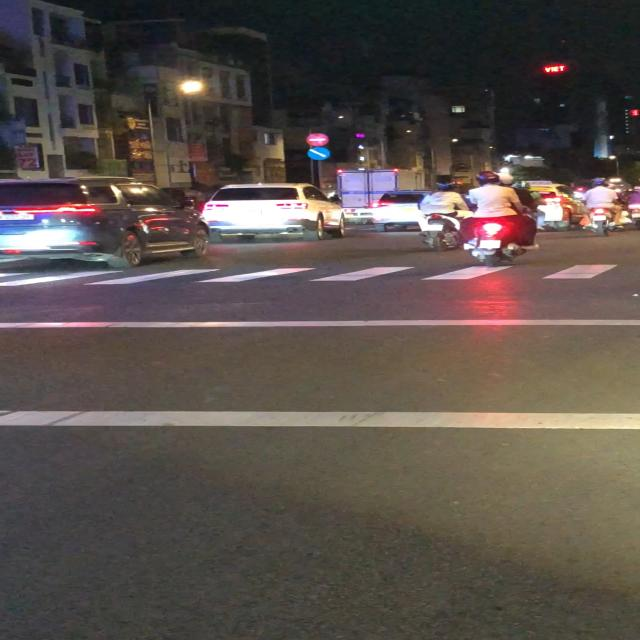Bien bao cam di nguoc chieu: (304, 132, 331, 147)
Bien bao huong phai di vong chuong ngai vat: (307, 146, 332, 160)
